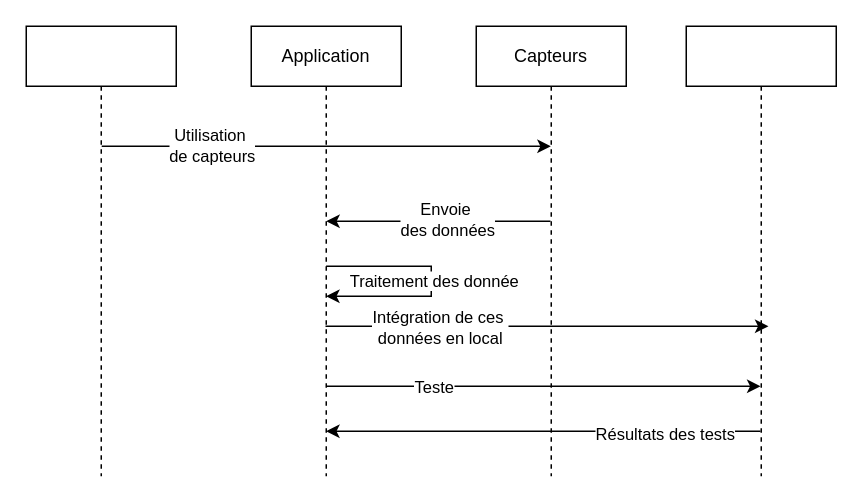
Image size: 863x503. Some labels were removed from this diagram. The shapes that lost their labels are listed below. From the top down, each one's box as (x1, y1, x2, y2) in pixels, then its label:
(25, 25, 176, 476): Utilisateur
(685, 25, 836, 476): Données Local
